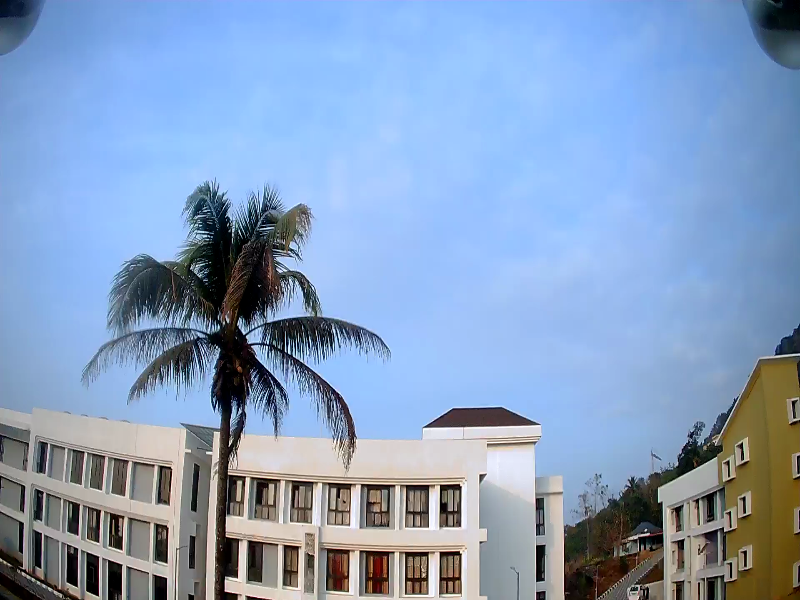coconut: (235, 364, 244, 374)
